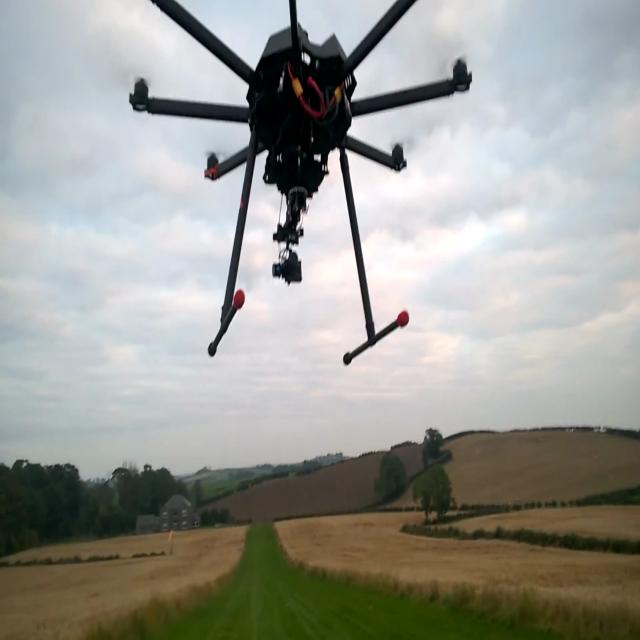drone: (107, 0, 485, 364)
